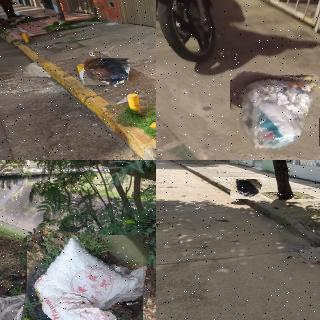Garbage: (23, 230, 146, 320), (227, 71, 320, 156), (83, 57, 130, 87), (231, 178, 261, 200)
